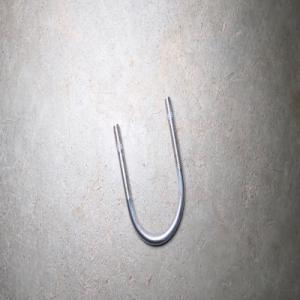ClampPart: (112, 95, 185, 247)
